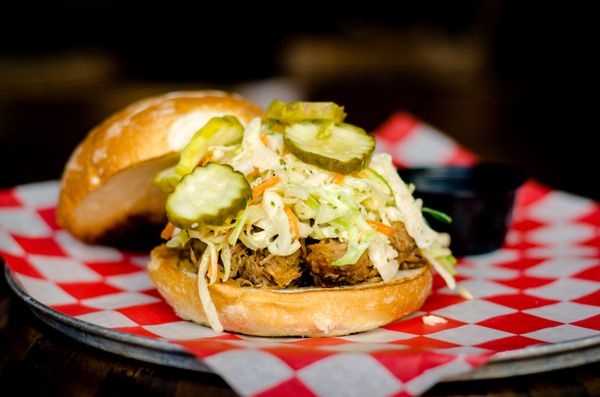pizza: (409, 161, 528, 258)
soup: (58, 91, 445, 337)
